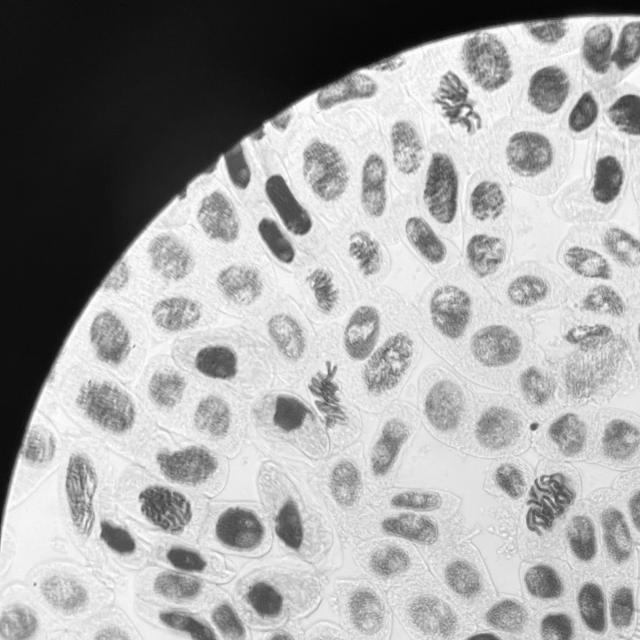interphase: (210, 507, 272, 555), (466, 322, 526, 370), (501, 130, 557, 180), (428, 286, 474, 340), (560, 242, 616, 284), (325, 458, 367, 508), (501, 273, 553, 310), (535, 612, 579, 640)
prophase: (428, 66, 488, 140), (524, 467, 580, 540), (63, 447, 101, 544), (305, 358, 353, 432), (136, 483, 194, 539), (345, 228, 390, 282), (302, 264, 344, 319)
